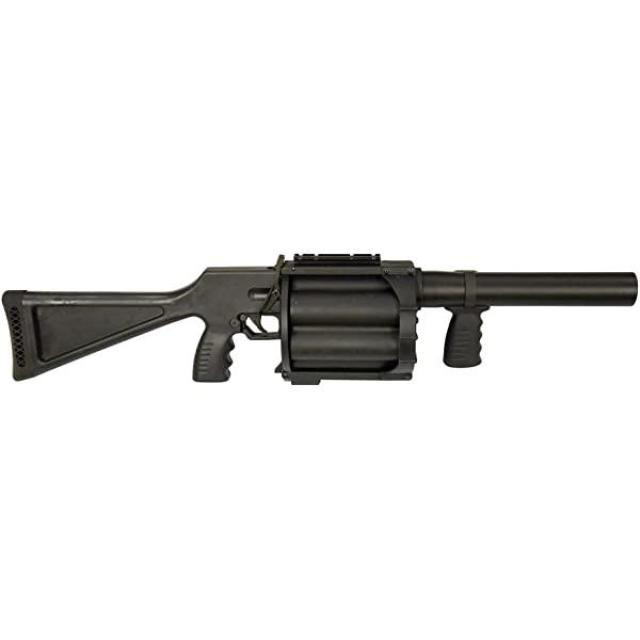weapon: (7, 244, 638, 398)
